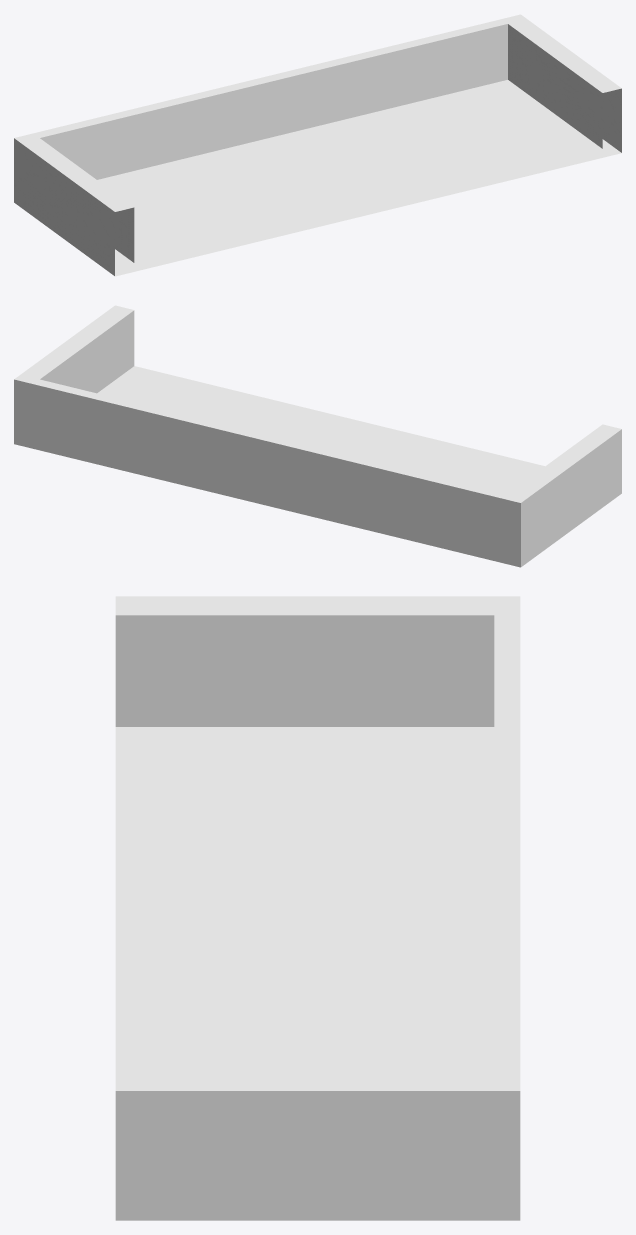
The model's file is Itr_Obj_Fridge2_Door_Drawer1_01.FBX.
3 renders of one model, top to bottom at view 1: azimuth 30°, elevation 25°; view 2: azimuth 150°, elevation 25°; view 3: azimuth 270°, elevation 25°, orthographic. The views are drawn at different scales.
Visible parts, largest first — view 1: Itr_Obj_Fridge2_Door_Drawer1_01; view 2: Itr_Obj_Fridge2_Door_Drawer1_01; view 3: Itr_Obj_Fridge2_Door_Drawer1_01.
Part boxes in pixels (x1,y1,x2,y2): Itr_Obj_Fridge2_Door_Drawer1_01: [14, 14, 621, 276]; Itr_Obj_Fridge2_Door_Drawer1_01: [14, 305, 621, 567]; Itr_Obj_Fridge2_Door_Drawer1_01: [115, 596, 520, 1220].
Size of the model in its own units: 25.4 by 3.1 by 8.78.
